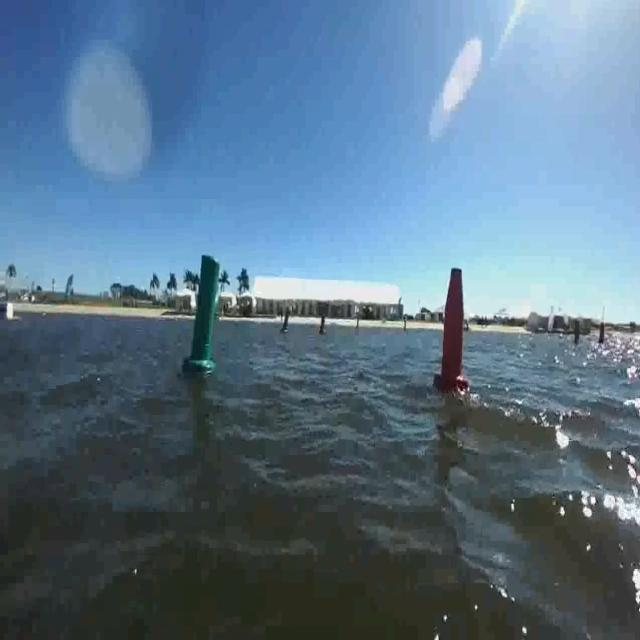green-column-buoy: (184, 254, 223, 375)
red-column-buoy: (435, 264, 468, 394)
